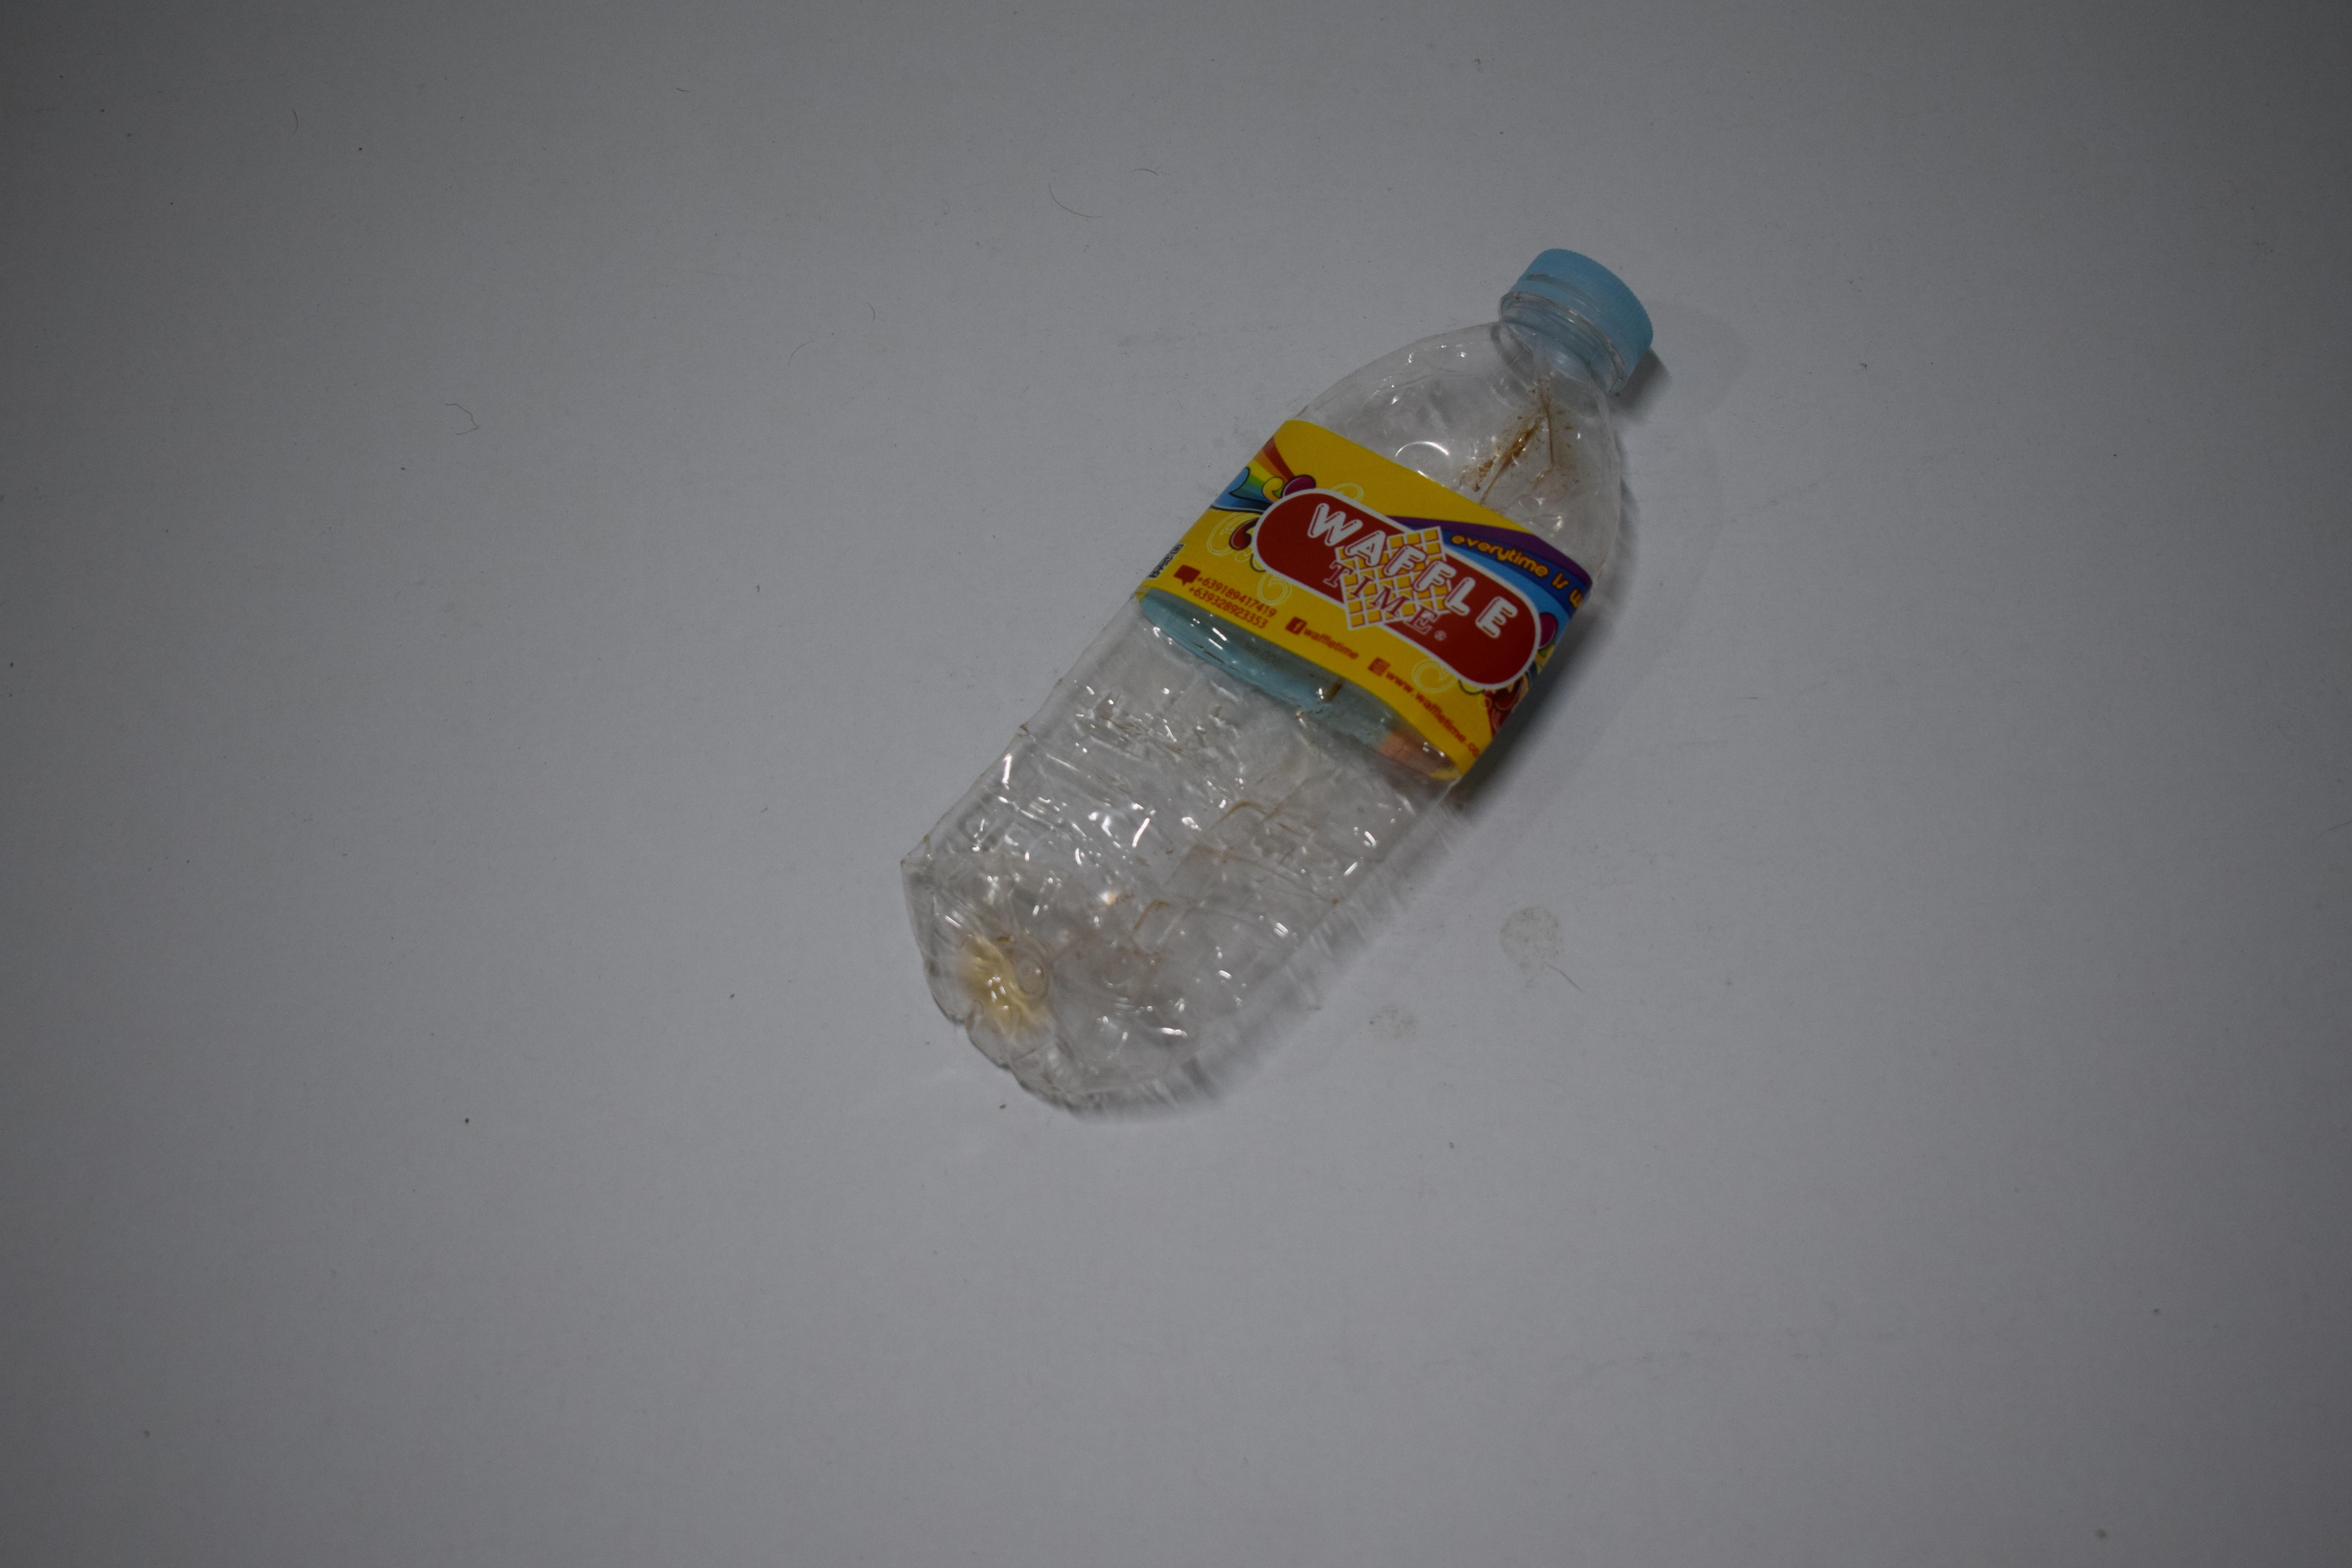bottle: (0, 674, 494, 686)
